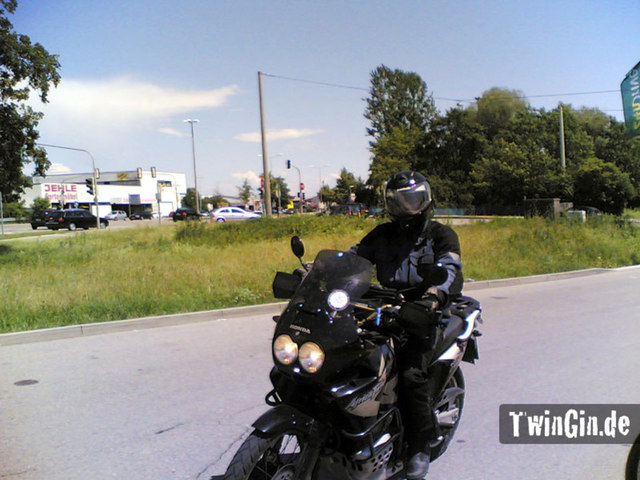helmet: (381, 175, 440, 230)
